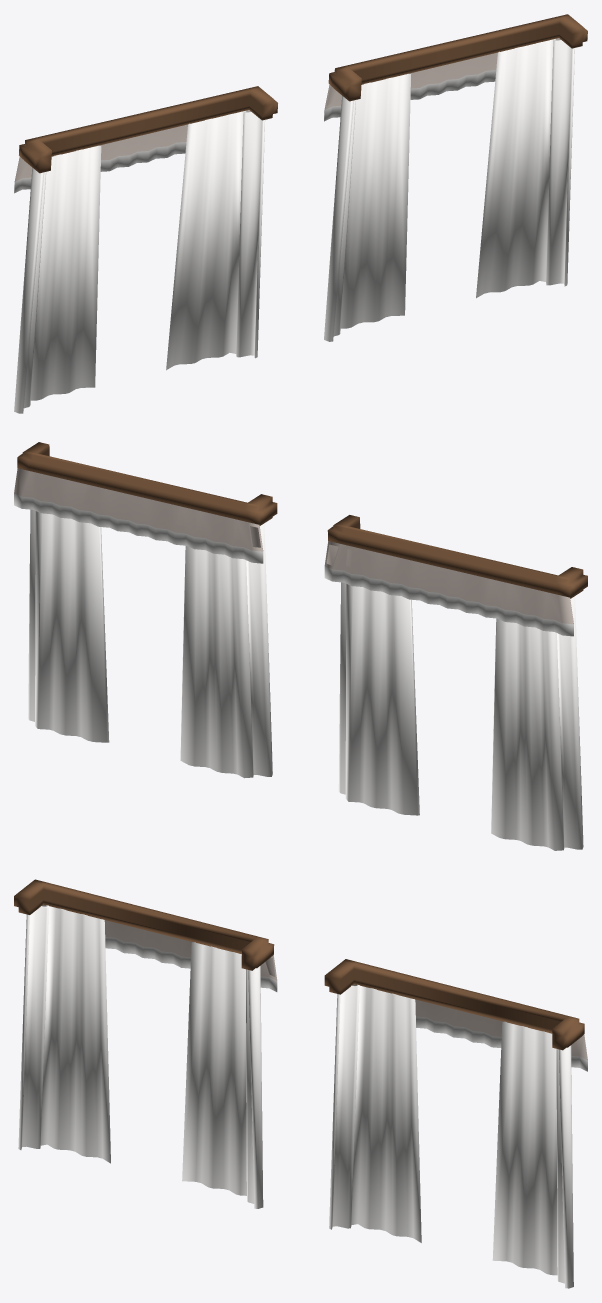
The model's file is Curtains_Striped.fbx.
3 views of the same model, one above another, from view 1: azimuth 30°, elevation 25°; view 2: azimuth 150°, elevation 25°; view 3: azimuth 330°, elevation 25° (orthographic).
Parts seen in each view (by area): view 1: Curtains_Striped; view 2: Curtains_Striped; view 3: Curtains_Striped.
Boxes of the visible parts, <box> form: Curtains_Striped: <box>14,14,587,413</box>; Curtains_Striped: <box>14,442,587,850</box>; Curtains_Striped: <box>14,879,587,1288</box>.
Bounding box in the file's own units: 2469 × 1142 × 175.
